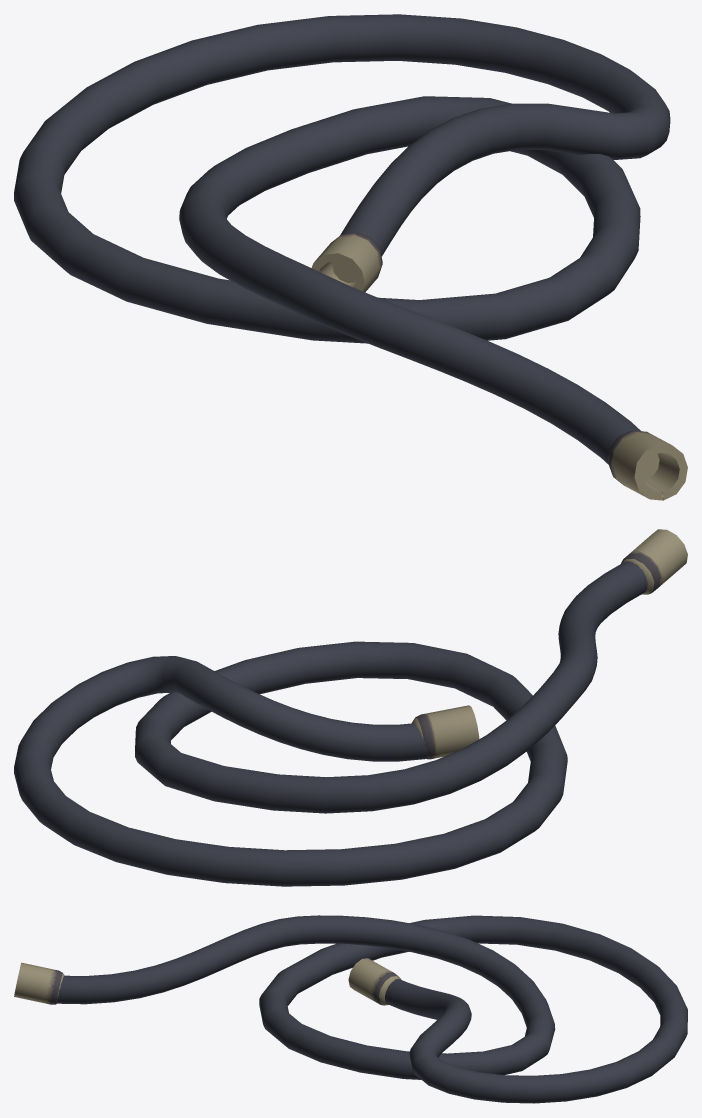
The model's file is TestLead.gltf.
3 views of the same model, one above another, from view 1: azimuth 30°, elevation 25°; view 2: azimuth 150°, elevation 25°; view 3: azimuth 270°, elevation 25° (orthographic). The views are drawn at different scales.
Visible parts, largest first — view 1: Prop_Cable_1; view 2: Prop_Cable_1; view 3: Prop_Cable_1.
Part boxes in pixels (x1,y1,x2,y2): Prop_Cable_1: (14, 14, 687, 500); Prop_Cable_1: (14, 529, 687, 886); Prop_Cable_1: (14, 915, 687, 1103).
Size of the model in its own units: 1.02 by 0.1482 by 1.65.
2 materials, 2 textured.
